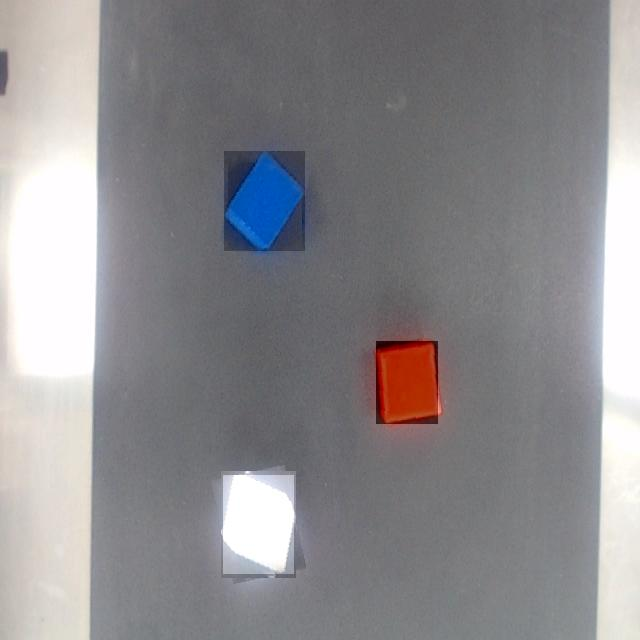Azul: (224, 152, 305, 251)
Blanco: (224, 476, 294, 574)
Rojo: (377, 341, 438, 424)
